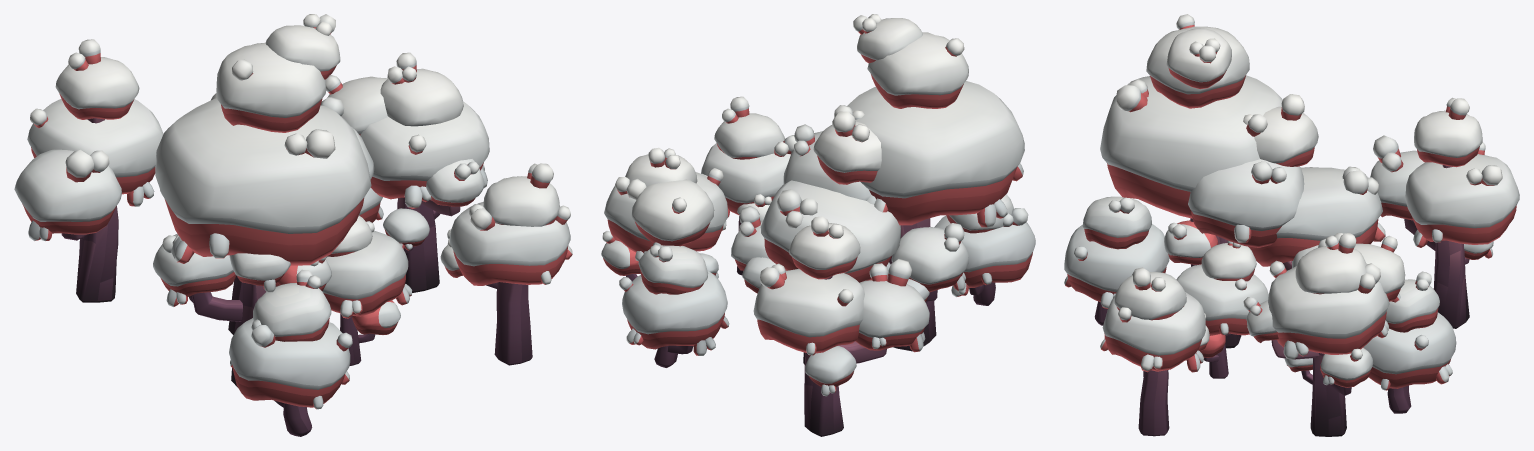
The model's file is grassland_tree_group_col3_snow.fbx.
The picture shows the model from 3 angles, left to right: view 1: azimuth 30°, elevation 25°; view 2: azimuth 150°, elevation 25°; view 3: azimuth 270°, elevation 25°; orthographic projection. The views are drawn at different scales.
Parts seen in each view (by area): view 1: grassland_tree_group_col3_snow; view 2: grassland_tree_group_col3_snow; view 3: grassland_tree_group_col3_snow.
Part boxes in pixels (x1,y1,x2,y2): grassland_tree_group_col3_snow: (14, 14, 572, 436); grassland_tree_group_col3_snow: (601, 14, 1035, 436); grassland_tree_group_col3_snow: (1064, 14, 1519, 436).
Bounding box in the file's own units: 1732 × 1490 × 1919.
